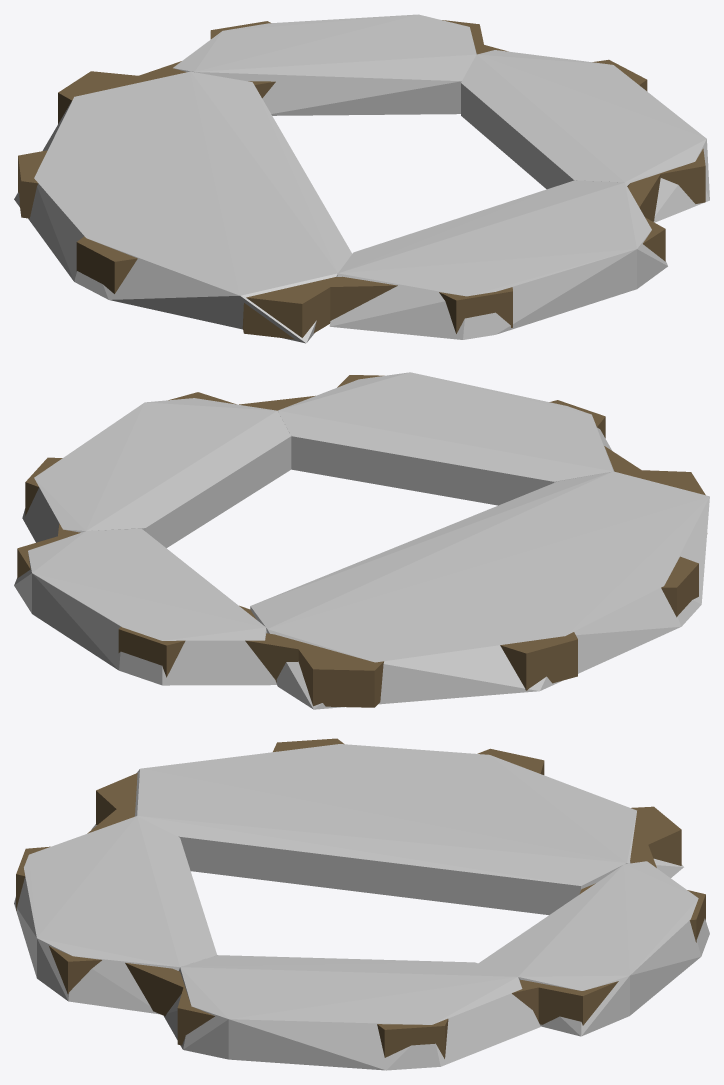
The model's file is SM_Bld_Planetarium_01_Gear_07.fbx.
The picture shows the model from 3 angles, top to bottom: view 1: azimuth 30°, elevation 25°; view 2: azimuth 150°, elevation 25°; view 3: azimuth 270°, elevation 25°; orthographic projection.
Parts seen in each view (by area): view 1: SM_Bld_Planetarium_01_Gear_07_ConvexHulls, SM_Bld_Planetarium_01_Gear_07; view 2: SM_Bld_Planetarium_01_Gear_07_ConvexHulls, SM_Bld_Planetarium_01_Gear_07; view 3: SM_Bld_Planetarium_01_Gear_07_ConvexHulls, SM_Bld_Planetarium_01_Gear_07.
Part boxes in pixels (left/top/right/bottom): SM_Bld_Planetarium_01_Gear_07_ConvexHulls: left=14, top=14, right=709, bottom=343; SM_Bld_Planetarium_01_Gear_07: left=18, top=20, right=705, bottom=339; SM_Bld_Planetarium_01_Gear_07_ConvexHulls: left=14, top=372, right=709, bottom=709; SM_Bld_Planetarium_01_Gear_07: left=17, top=375, right=707, bottom=707; SM_Bld_Planetarium_01_Gear_07_ConvexHulls: left=14, top=744, right=709, bottom=1070; SM_Bld_Planetarium_01_Gear_07: left=16, top=738, right=705, bottom=1058.
Bounding box in the file's own units: 180 × 179 × 11.47.
Materials: 2 (1 with a texture image).
